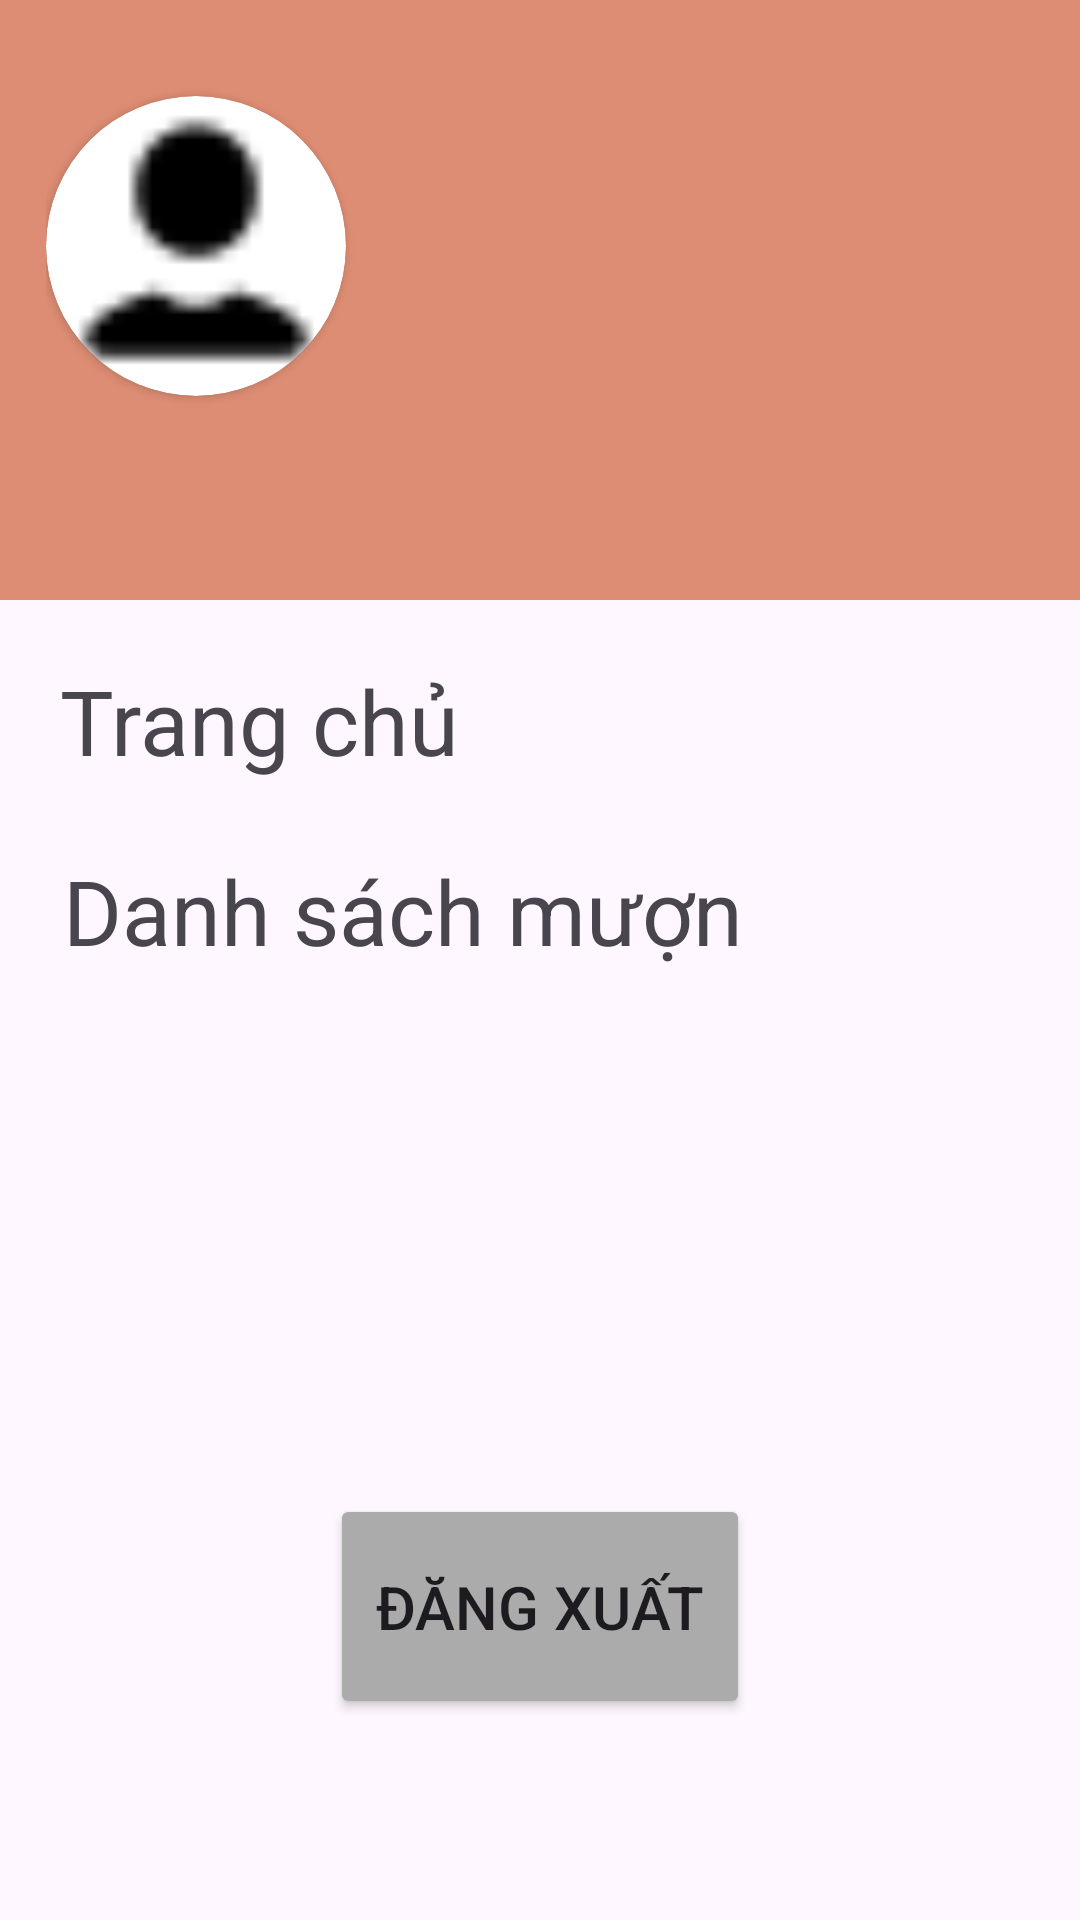

Icon click points for this 1080x1920 phone screenshot, format [x,y]:
person: [196,246]
